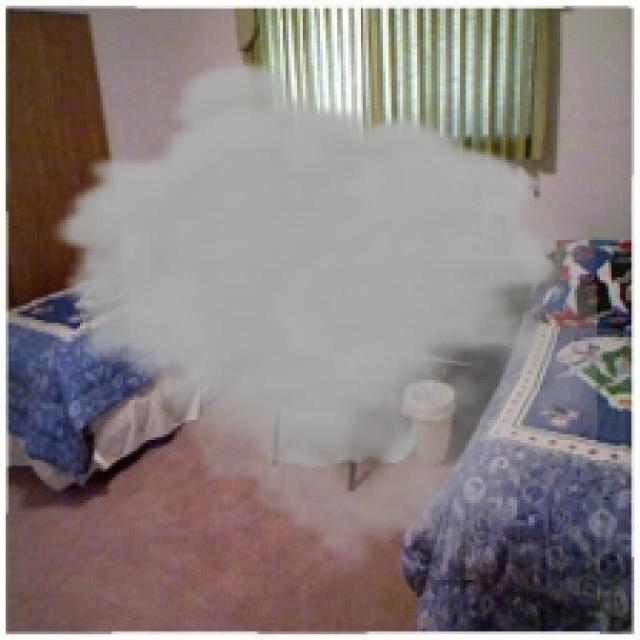Smoke: (52, 57, 598, 580)
